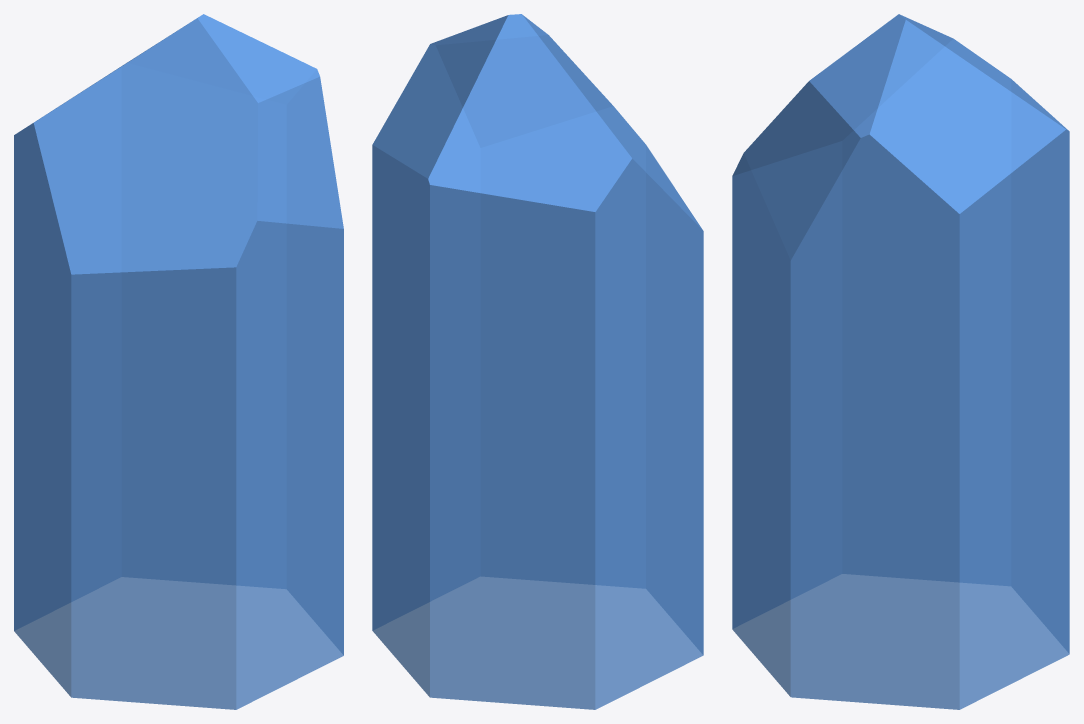
Rendered from Crystal_m_12.fbx.
3 renders of one model, left to right at view 1: azimuth 30°, elevation 25°; view 2: azimuth 150°, elevation 25°; view 3: azimuth 270°, elevation 25°, orthographic. The views are drawn at different scales.
Visible parts, largest first — view 1: Crystal_m_12; view 2: Crystal_m_12; view 3: Crystal_m_12.
Boxes of the visible parts, box(x1,y1,x2,y2) form: Crystal_m_12: box(14, 14, 343, 709); Crystal_m_12: box(372, 14, 703, 709); Crystal_m_12: box(732, 14, 1069, 709).
Size of the model in its own units: 78.96 by 172 by 82.75.
